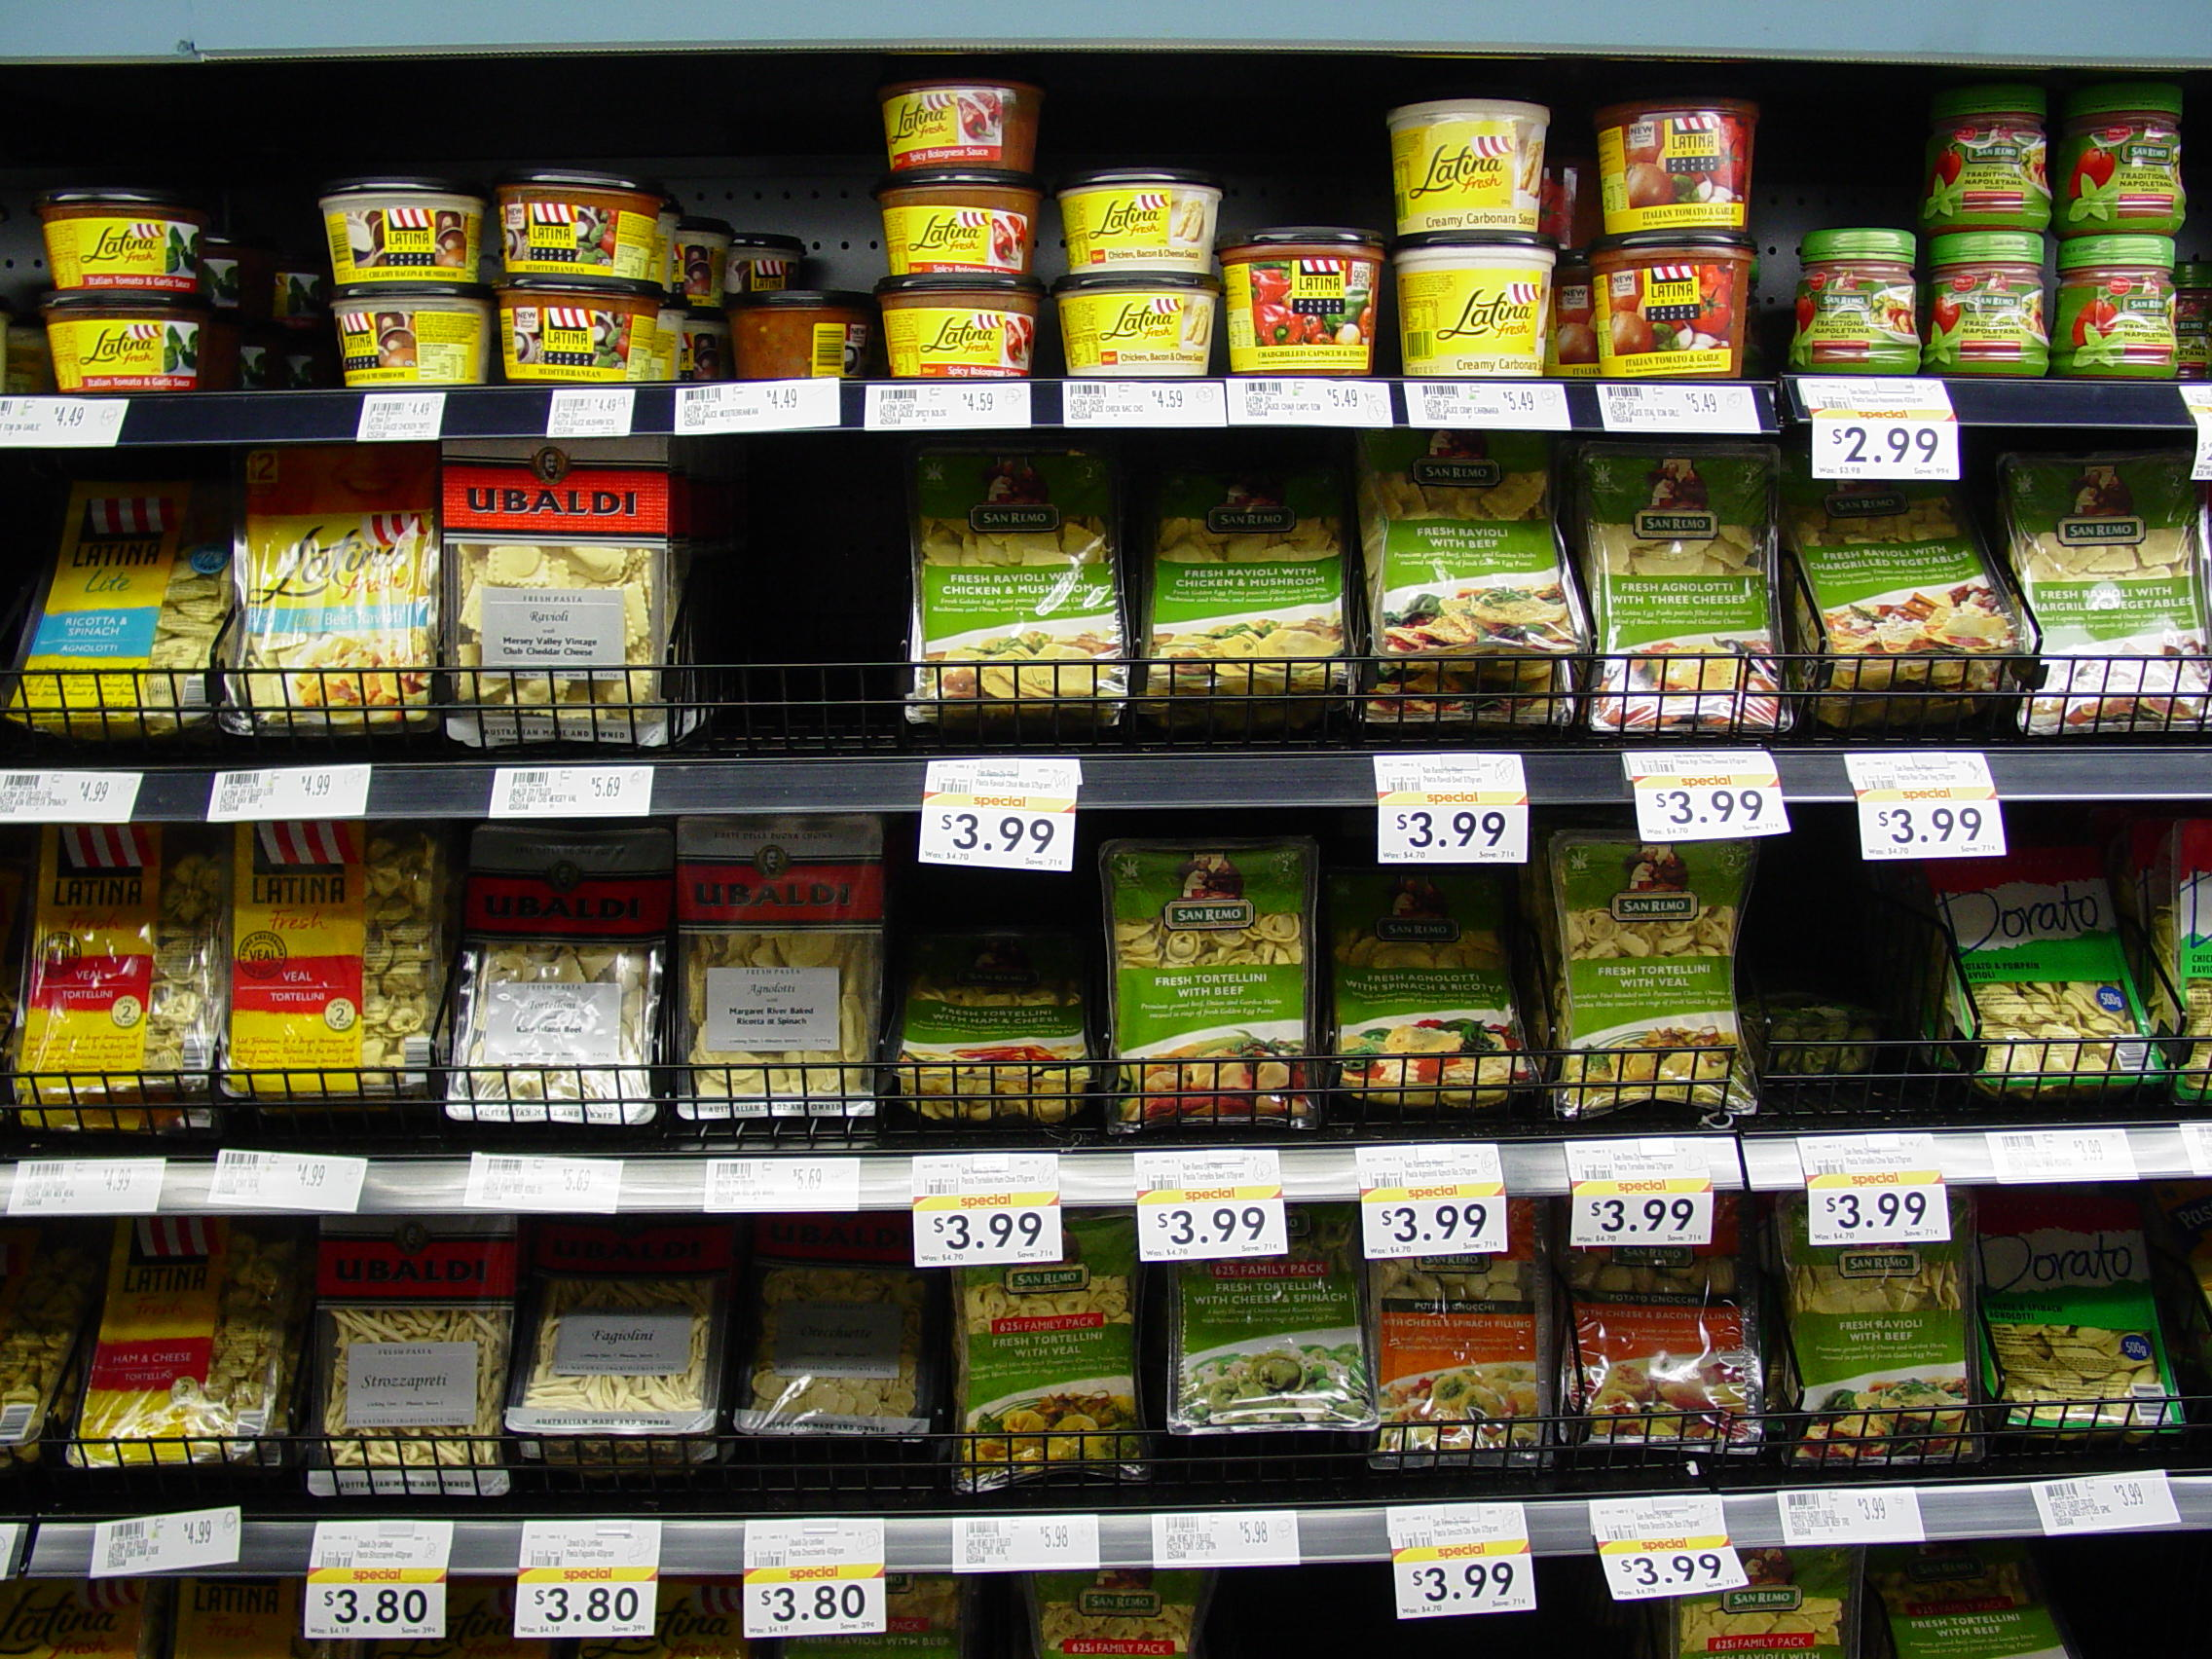Misplacement: (733, 1241, 960, 1492), (902, 845, 1096, 1124), (1761, 861, 1954, 1105), (716, 112, 878, 369)
Out-of-stock: (676, 437, 907, 741)
